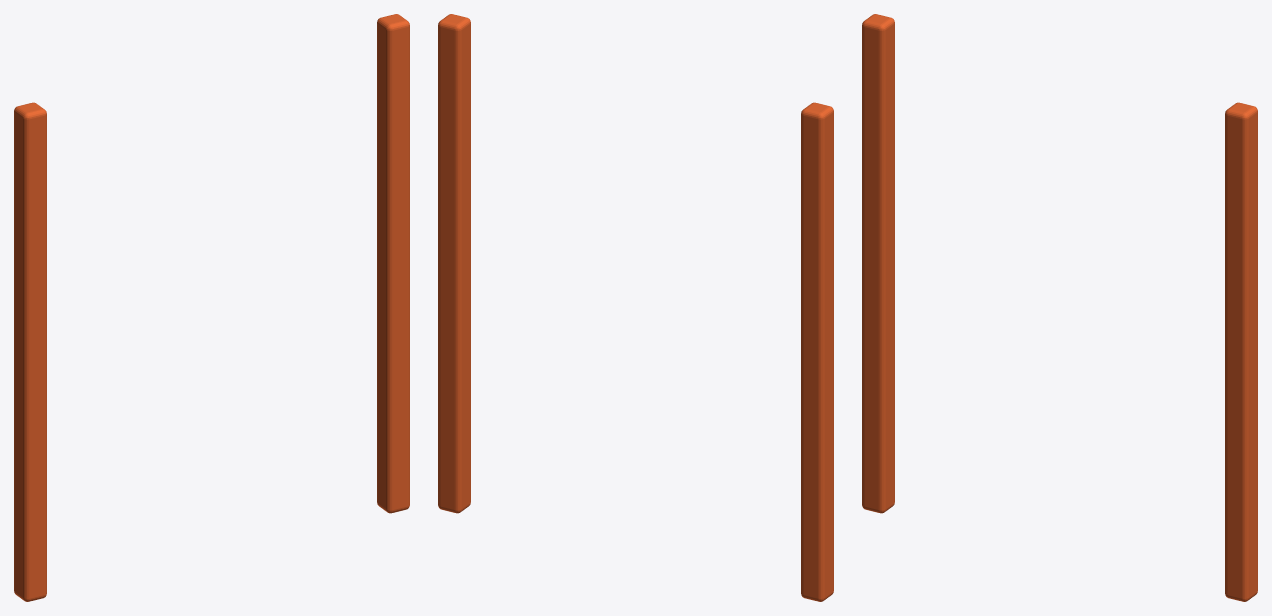
The model's file is DoorStick.fbx.
The picture shows the model from 3 angles, left to right: view 1: azimuth 30°, elevation 25°; view 2: azimuth 150°, elevation 25°; view 3: azimuth 330°, elevation 25°; orthographic projection.
Parts seen in each view (by area): view 1: Stick, Stick.001; view 2: Stick, Stick.001; view 3: Stick, Stick.001.
Part boxes in pixels (left/top/right/bottom): Stick: left=14, top=102, right=46, bottom=601; Stick.001: left=377, top=14, right=409, bottom=513; Stick: left=801, top=102, right=833, bottom=601; Stick.001: left=438, top=14, right=470, bottom=513; Stick: left=862, top=14, right=894, bottom=513; Stick.001: left=1225, top=102, right=1257, bottom=601.
Bounding box in the file's own units: 331 × 400 × 20.
